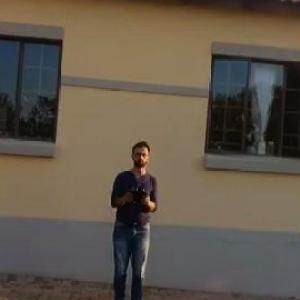follow: (102, 135, 161, 299)
